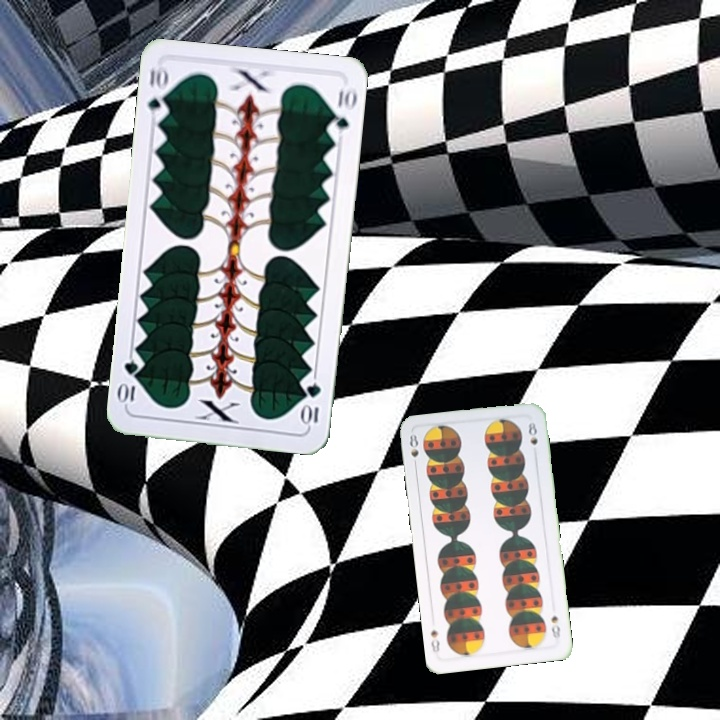G10: (144, 63, 172, 123), (299, 378, 323, 429)
S8: (405, 430, 421, 471), (547, 611, 563, 643)
